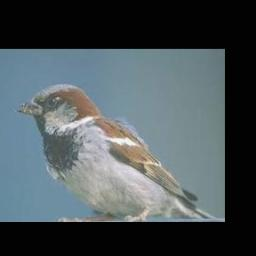Sparrow: (14, 83, 217, 221)
